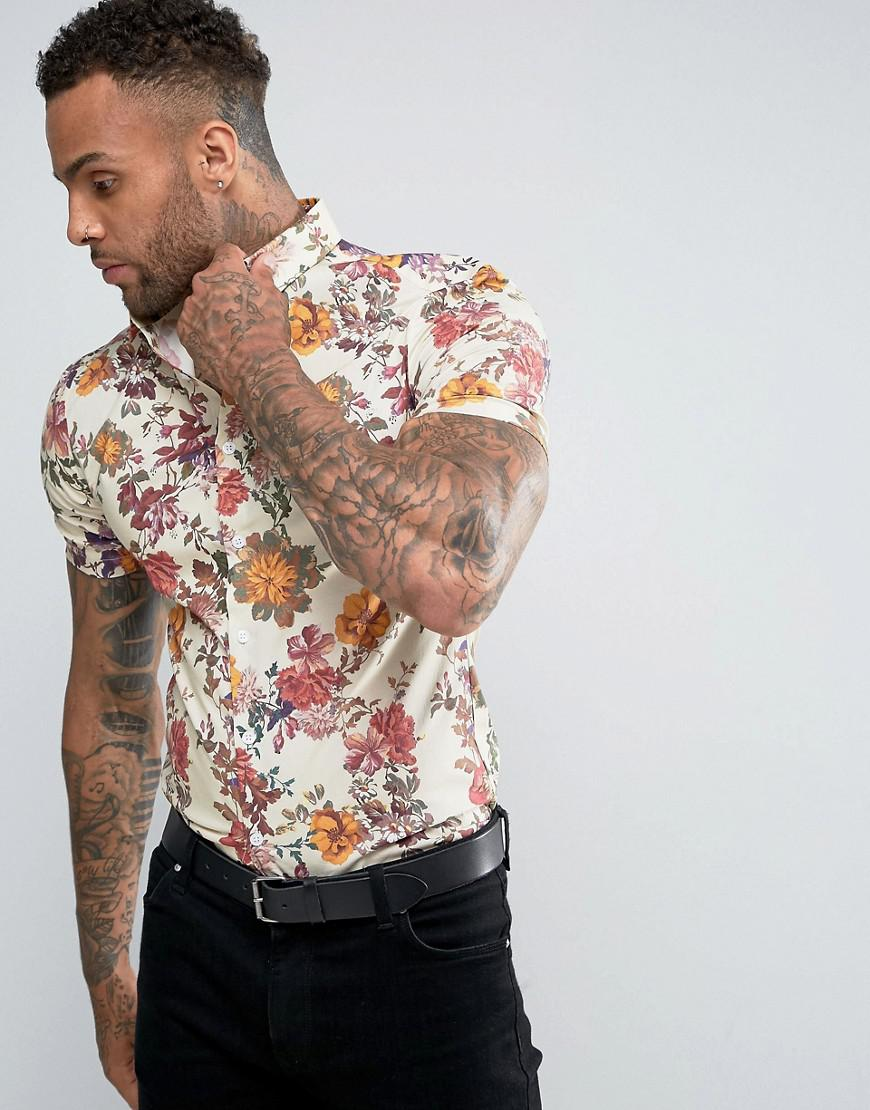teeshirt: (40, 224, 578, 905)
